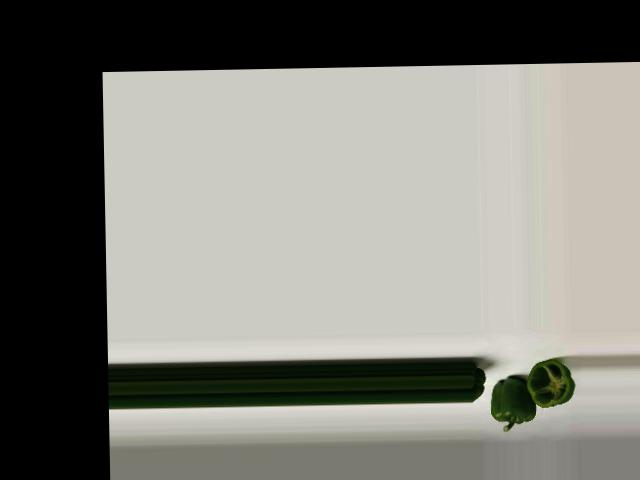bell_pepper: (523, 356, 577, 413)
